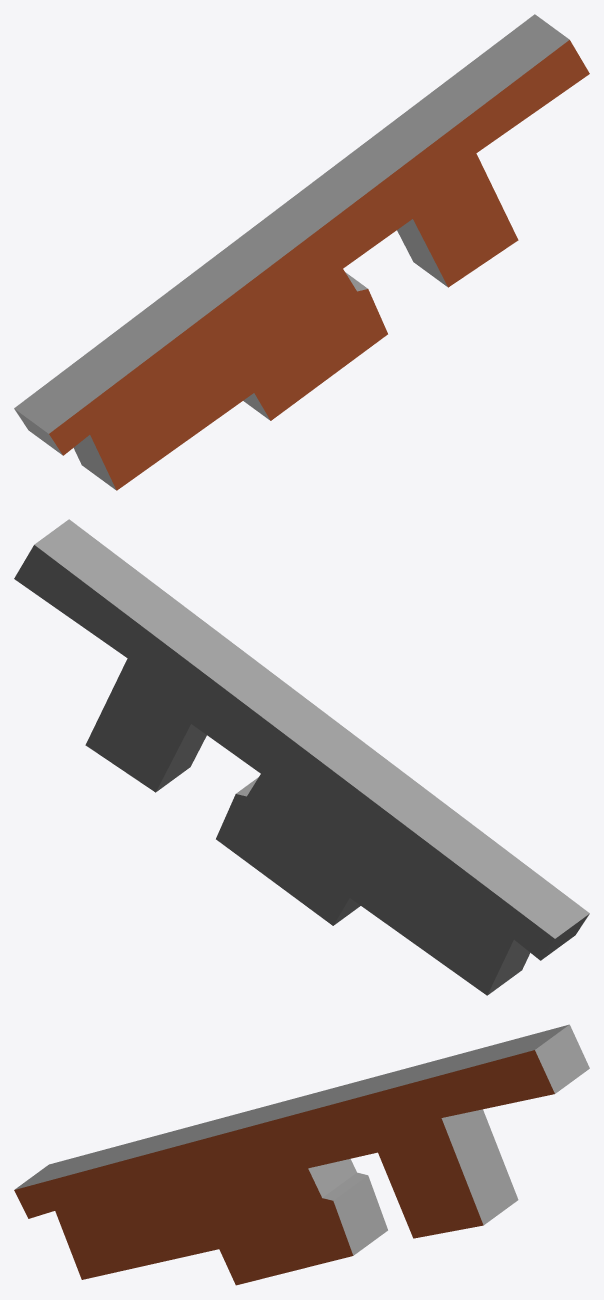
Rendered from construction_2520_assumed_A_Casa_h6m.obj.
The picture shows the model from 3 angles, top to bottom: view 1: azimuth 30°, elevation 25°; view 2: azimuth 150°, elevation 25°; view 3: azimuth 330°, elevation 25°; orthographic projection.
Visible parts, largest first — view 1: construction_2520_assumed_A_Casa; view 2: construction_2520_assumed_A_Casa; view 3: construction_2520_assumed_A_Casa.
Boxes of the visible parts, x1=… form: construction_2520_assumed_A_Casa: x1=14, y1=14, x2=589, y2=490; construction_2520_assumed_A_Casa: x1=14, y1=519, x2=589, y2=995; construction_2520_assumed_A_Casa: x1=14, y1=1024, x2=589, y2=1285.
Bounding box in the file's own units: 53.71 × 32.3 × 6.
